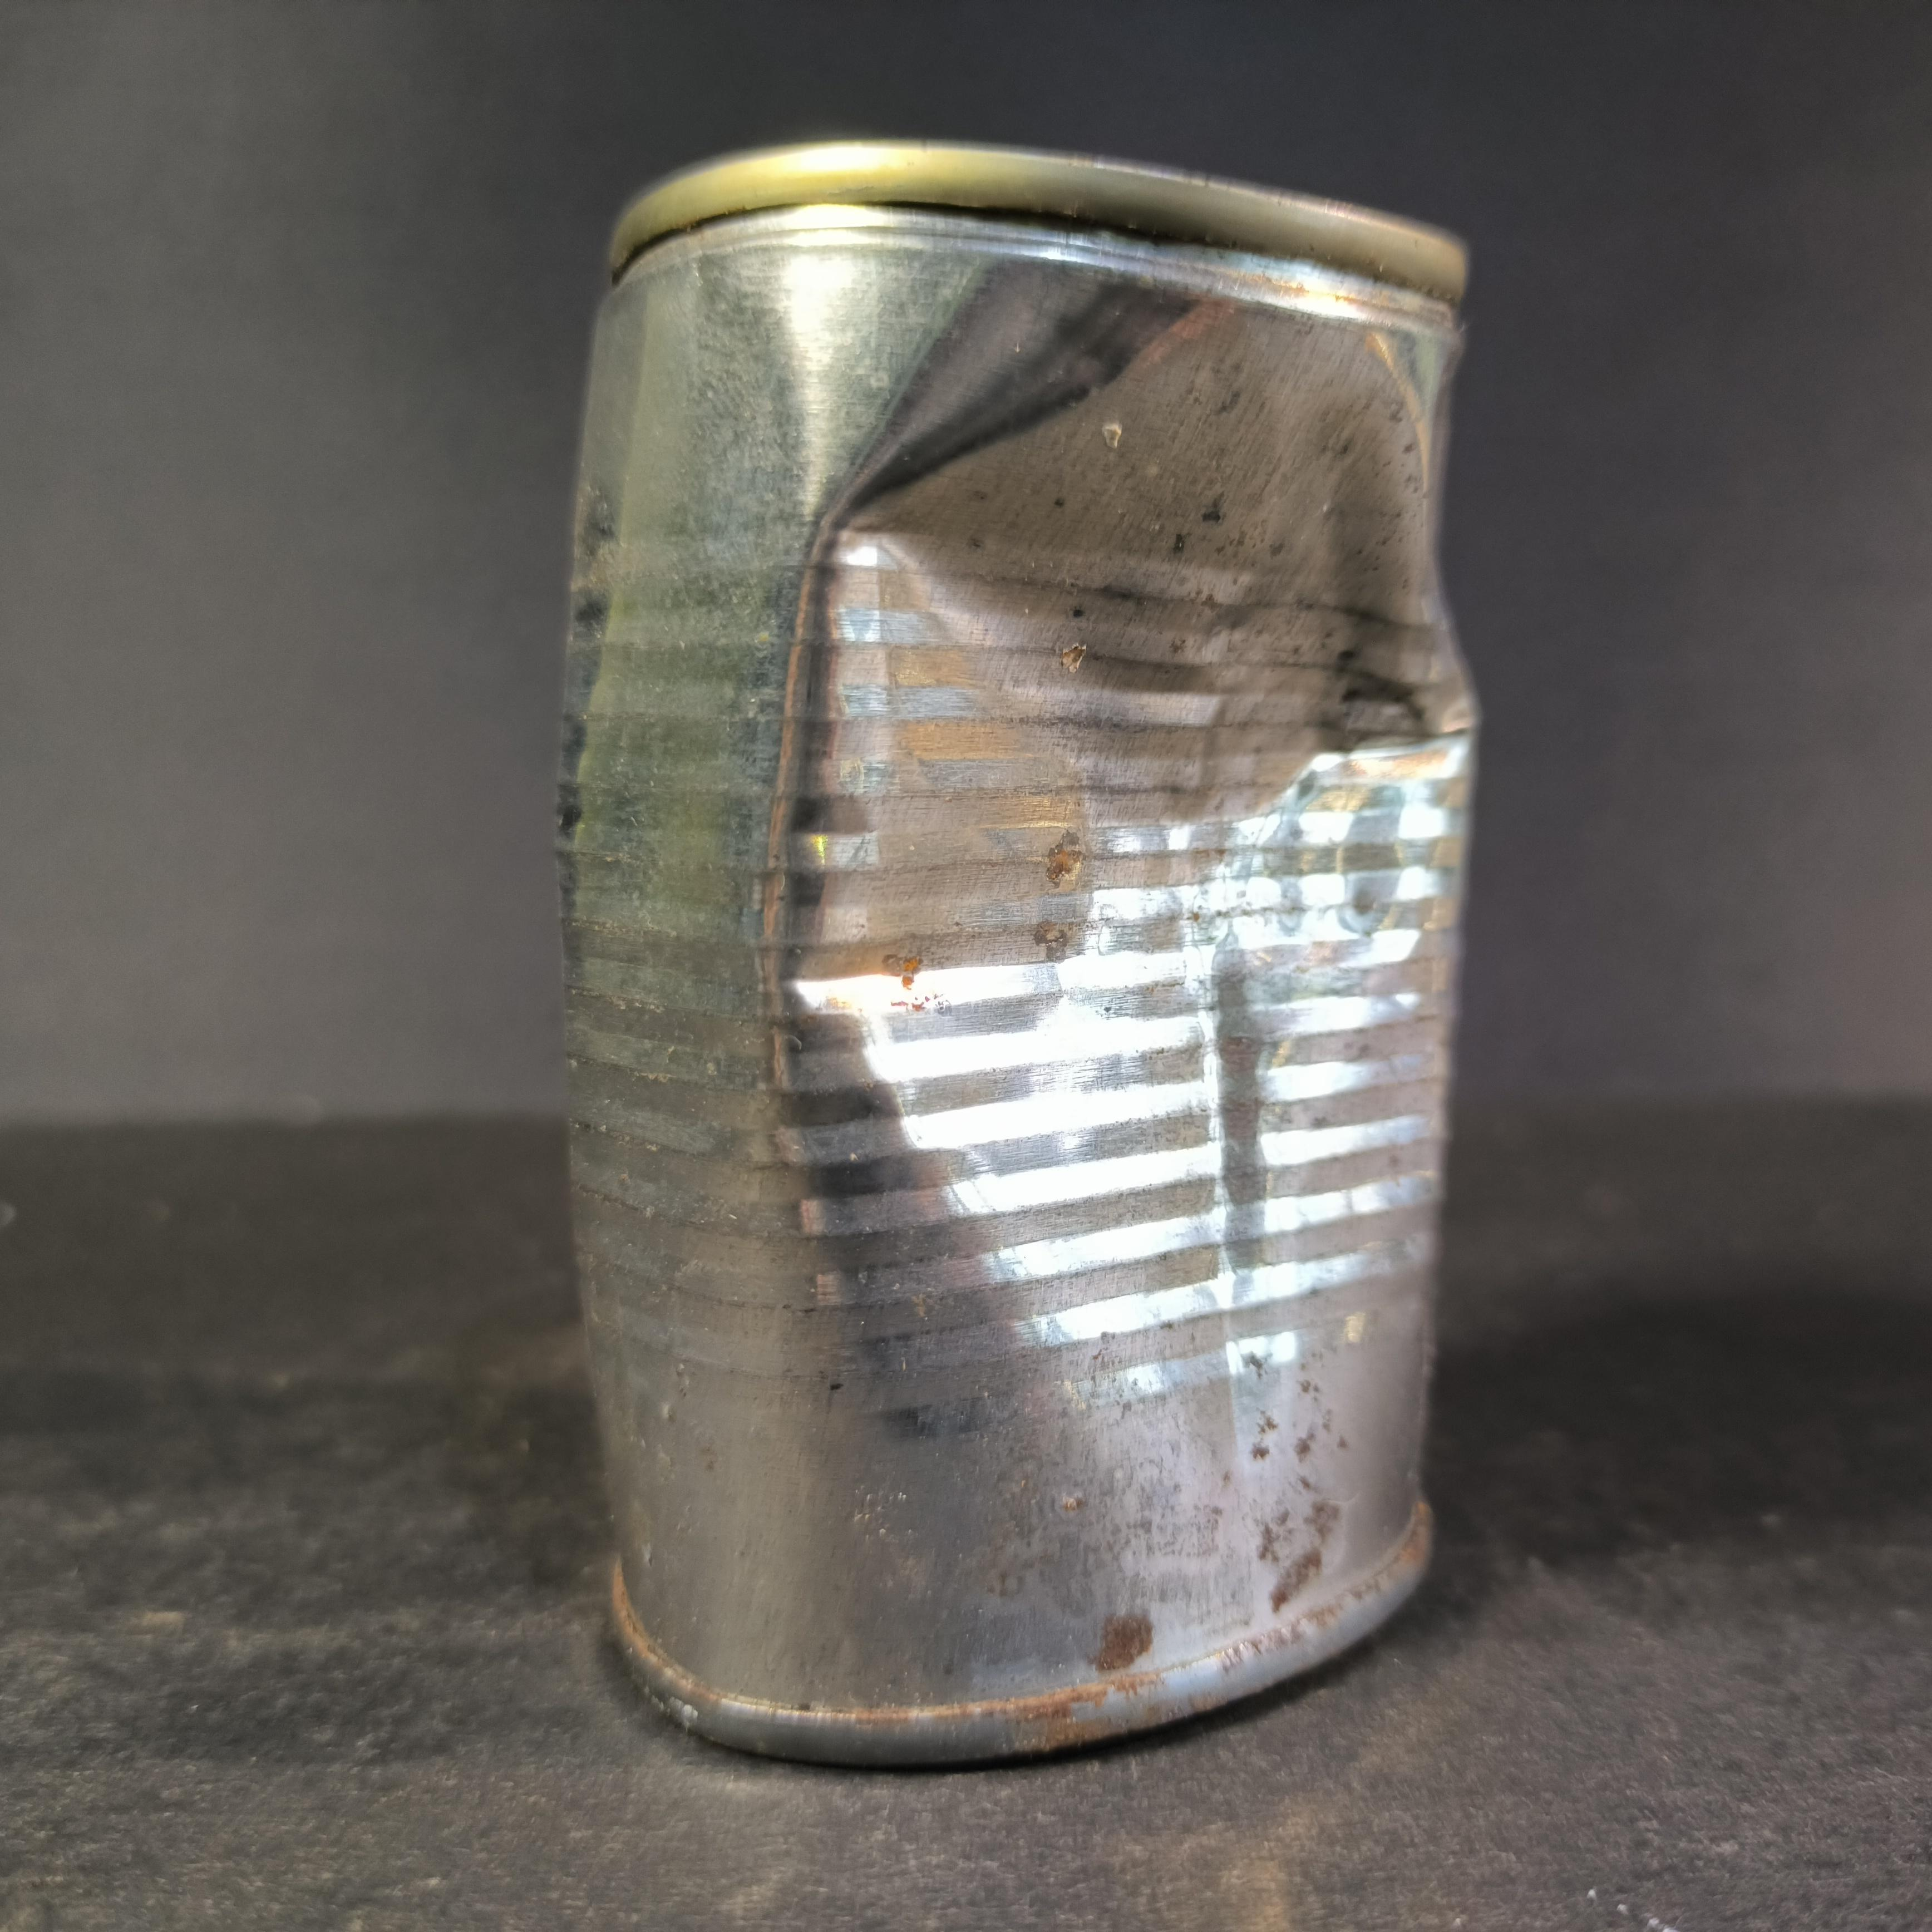Dented: (511, 92, 1522, 1725)
